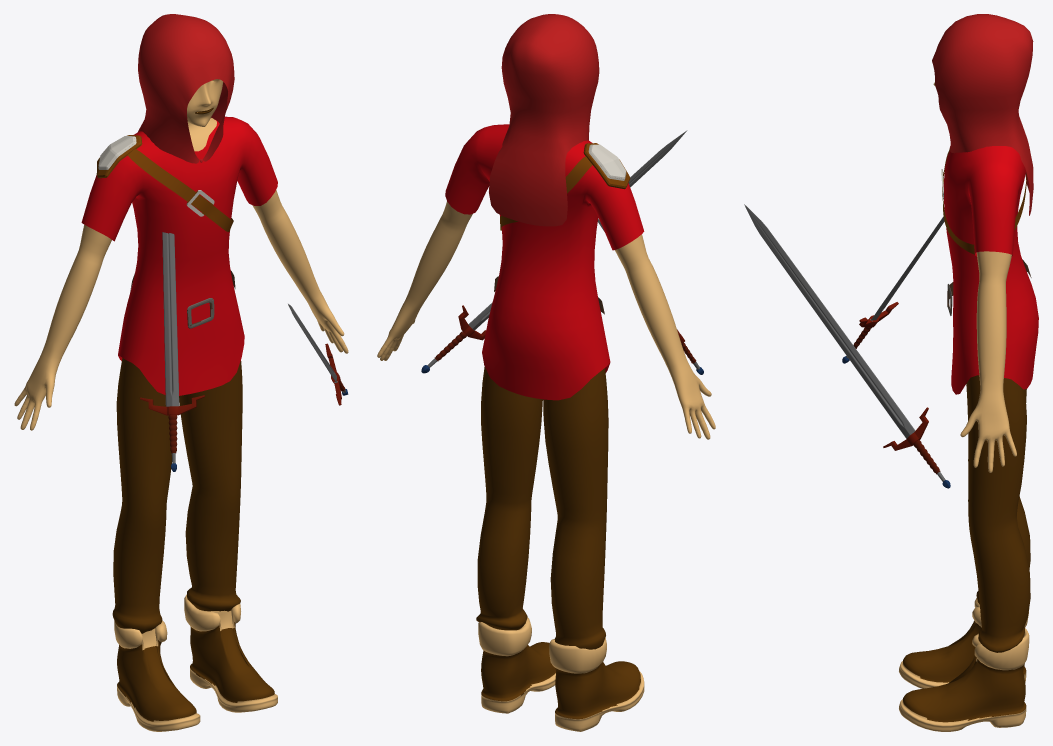
Rendered from Personnage_double_epees.fbx.
3 views of the same model, side by side, from view 1: azimuth 30°, elevation 25°; view 2: azimuth 150°, elevation 25°; view 3: azimuth 270°, elevation 25° (orthographic).
Visible parts, largest first — view 1: tunique, pantalon, coprs, capuche, R_blade, épaulière, R_blade.001; view 2: pantalon, tunique, coprs, capuche, épaulière, R_blade.001; view 3: coprs, tunique, pantalon, capuche, R_blade.001, R_blade, épaulière.
Part boxes in pixels (x1,y1,x2,y2): tunique: (81,116,277,395); pantalon: (112,358,242,633); coprs: (14,79,348,731); capuche: (137,14,234,163); R_blade: (140,232,204,471); épaulière: (96,135,233,231); R_blade.001: (288,304,348,405); pantalon: (476,367,608,649); tunique: (445,124,644,400); coprs: (377,201,715,731); capuche: (489,14,599,226); épaulière: (500,143,630,230); R_blade.001: (421,130,687,373); coprs: (899,82,1029,731); tunique: (943,146,1038,394); pantalon: (966,375,1030,652); capuche: (932,14,1033,215); R_blade.001: (744,204,950,488); R_blade: (842,216,944,363); épaulière: (941,149,1026,254).
Bounding box in the file's own units: 461 × 929 × 362.
